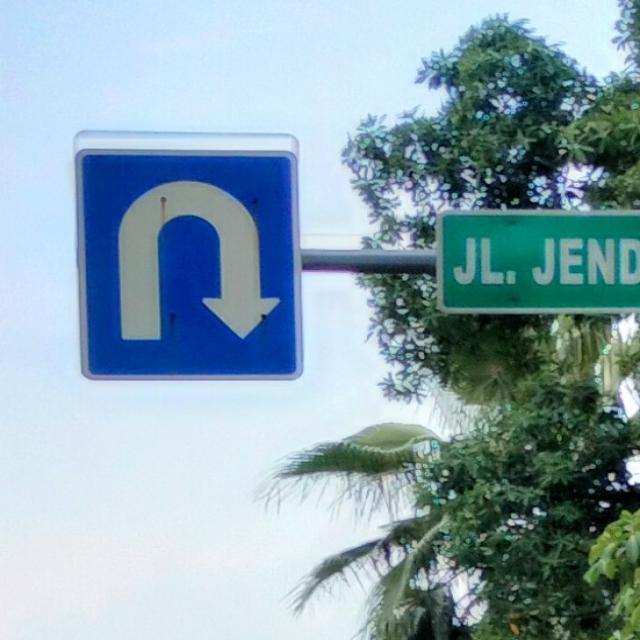Putar Balik: (75, 137, 308, 380)
